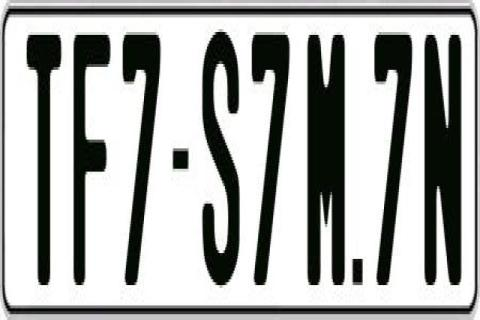0: (372, 35, 416, 297), (248, 26, 288, 282), (123, 29, 161, 297)
F: (71, 35, 111, 299)
M: (304, 32, 341, 285)
N: (424, 29, 462, 297)
S: (199, 26, 237, 294)
T: (27, 29, 65, 297)
